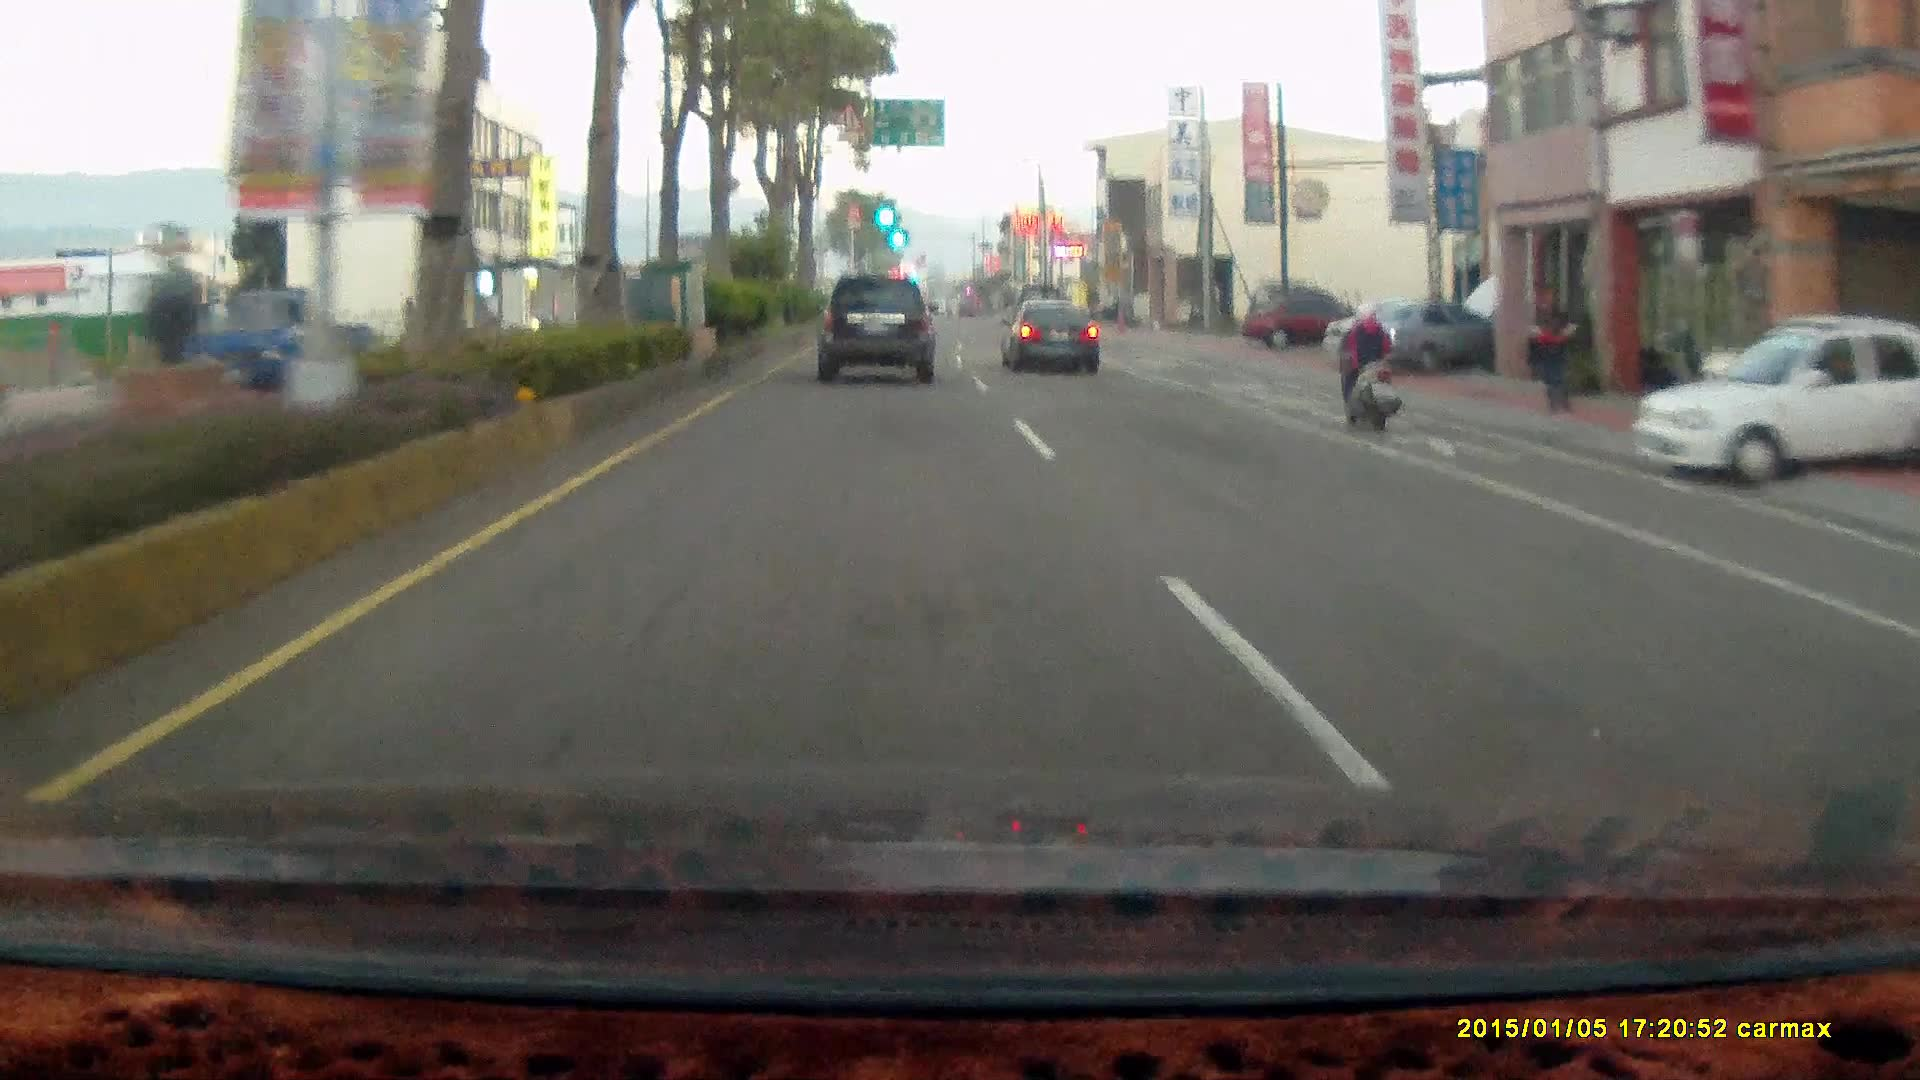pedestrian: (1523, 280, 1585, 417)
rider: (1319, 285, 1414, 445), (1333, 290, 1402, 423)
vehicle: (1635, 317, 1920, 497), (1630, 316, 1920, 489), (182, 284, 374, 409), (815, 272, 942, 389), (1326, 294, 1504, 375), (1321, 299, 1504, 376), (815, 275, 938, 384), (1240, 295, 1382, 355), (1001, 300, 1104, 375), (1240, 296, 1380, 350), (1000, 299, 1101, 373)
